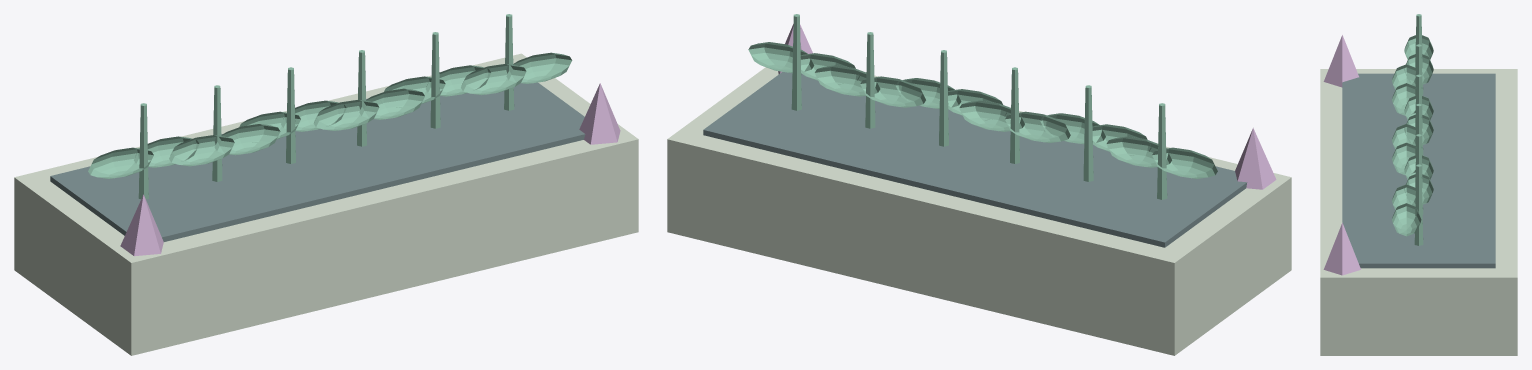
File: runestone-conservatory-raised-herb-bed__103.glb
The picture shows the model from 3 angles, left to right: view 1: azimuth 30°, elevation 25°; view 2: azimuth 150°, elevation 25°; view 3: azimuth 270°, elevation 25°; orthographic projection. The views are drawn at different scales.
Visible parts, largest first — view 1: runestone-conservatory-raised-herb-bed; view 2: runestone-conservatory-raised-herb-bed; view 3: runestone-conservatory-raised-herb-bed.
Boxes of the visible parts, x1,y1,x2,y2 form: runestone-conservatory-raised-herb-bed: (14, 14, 638, 355); runestone-conservatory-raised-herb-bed: (667, 14, 1291, 355); runestone-conservatory-raised-herb-bed: (1320, 14, 1517, 355).
Size of the model in its own units: 2 by 0.72 by 0.8.
